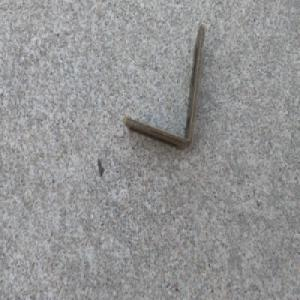MetalPart: (124, 23, 207, 151)
